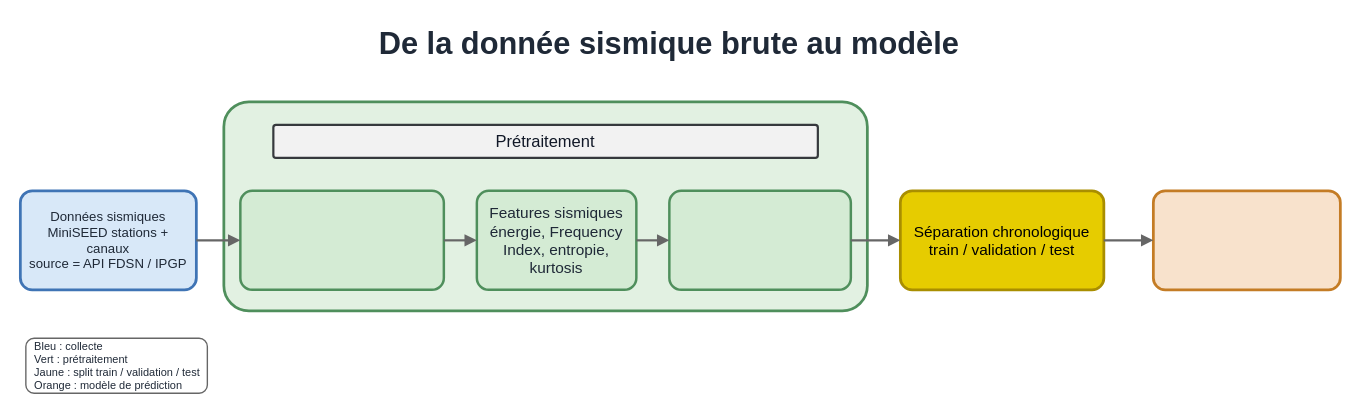
Some shapes in this 1361 by 413 pixel diagram are drawn without their labels. The centre of each missing label's shape, as x and y in pixels:
"Conditionnement du signal filtrage, nettoyage, agrégation 1 min" goes at point 342,240.
"Modèle final CNN-Transformer classification alerte 24 h" goes at point 1246,240.
"Séquences temporelles fenêtres glissantes" goes at point 760,240.
